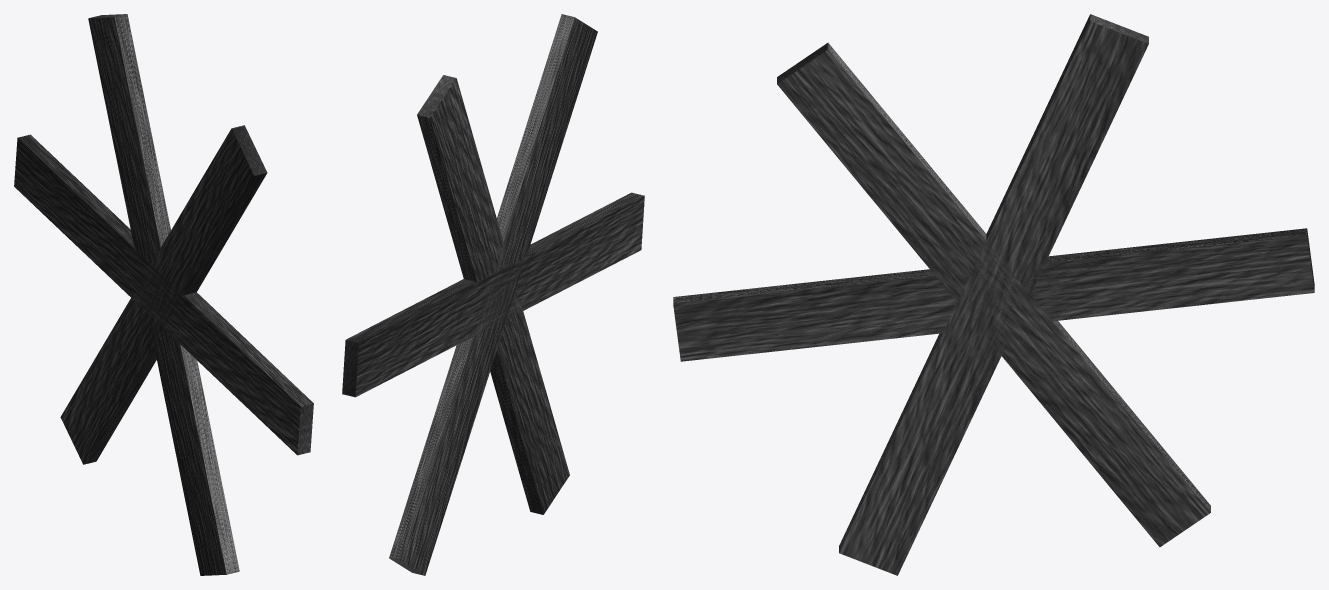
Rendered from vent.dae.
The picture shows the model from 3 angles, left to right: view 1: azimuth 30°, elevation 25°; view 2: azimuth 150°, elevation 25°; view 3: azimuth 270°, elevation 25°; orthographic projection. The views are drawn at different scales.
Visible parts, largest first — view 1: Helices; view 2: Helices; view 3: Helices.
Part boxes in pixels (x1,y1,x2,y2): Helices: (14,14,313,575); Helices: (342,14,644,575); Helices: (673,14,1314,575).
Size of the model in its own units: 0.008 by 0.3014 by 0.2876.
Materials: 1 (1 with a texture image).
